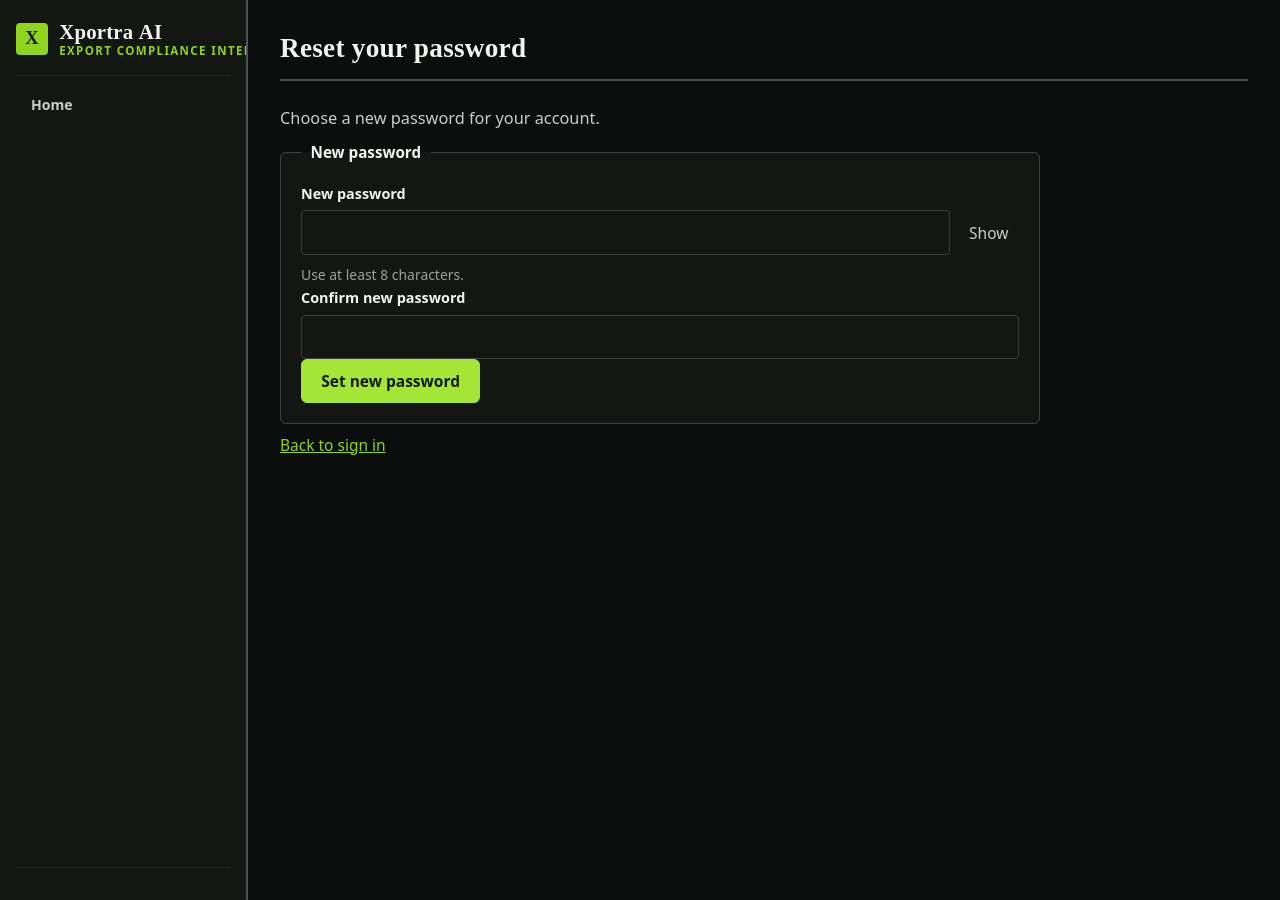
Test case: ResetPasswordPage › exchanges a recovery code and sets a new password
The image size is (1280, 900).
Type "brand-new-password" into the password field labelled "New password" at point(626, 233), box 301,210 -> 950,255
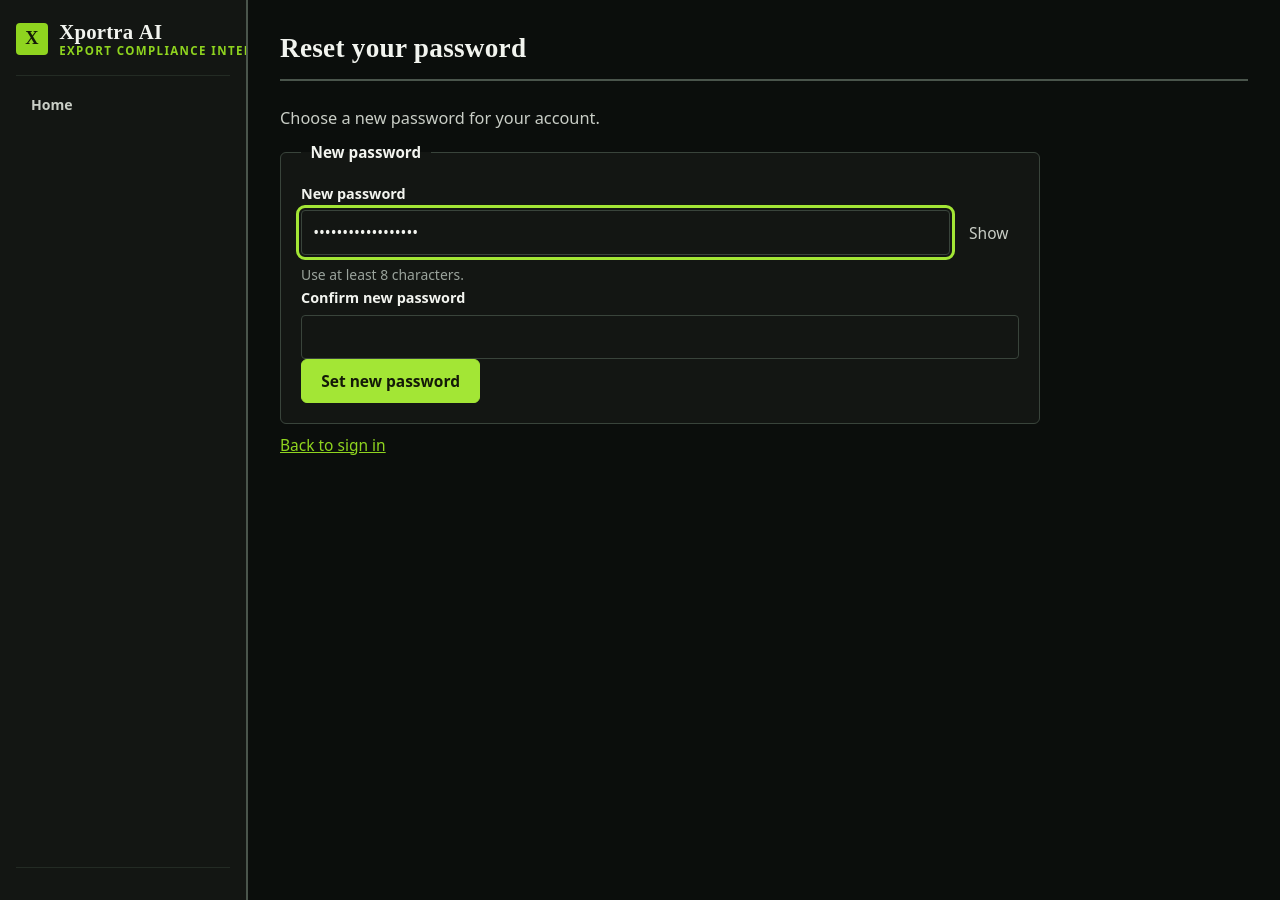
Type "brand-new-password" into the password field labelled "Confirm new password" at point(660, 337), box 301,314 -> 1019,359
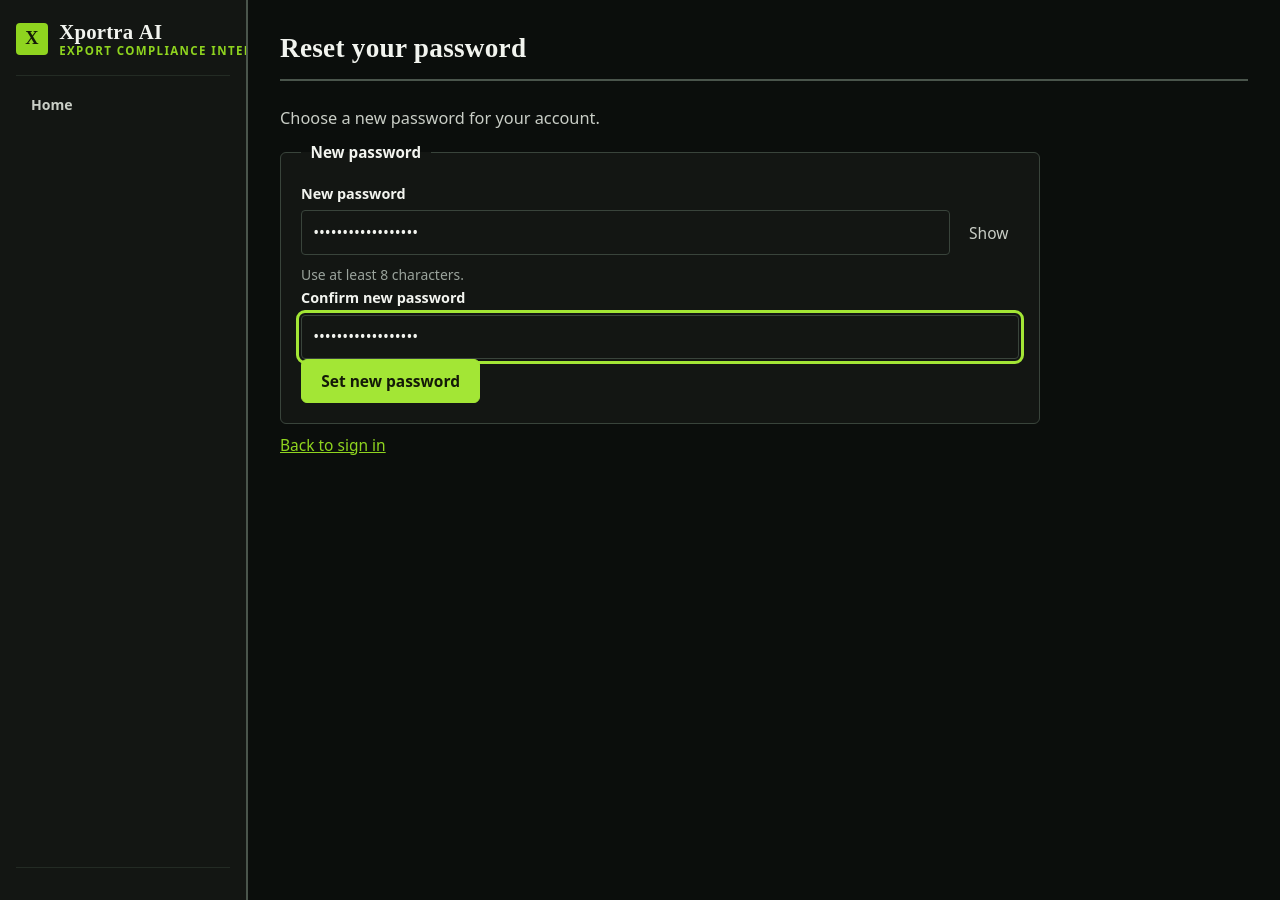
Click the button "Set new password" at point(391, 381), box 301,359 -> 480,403
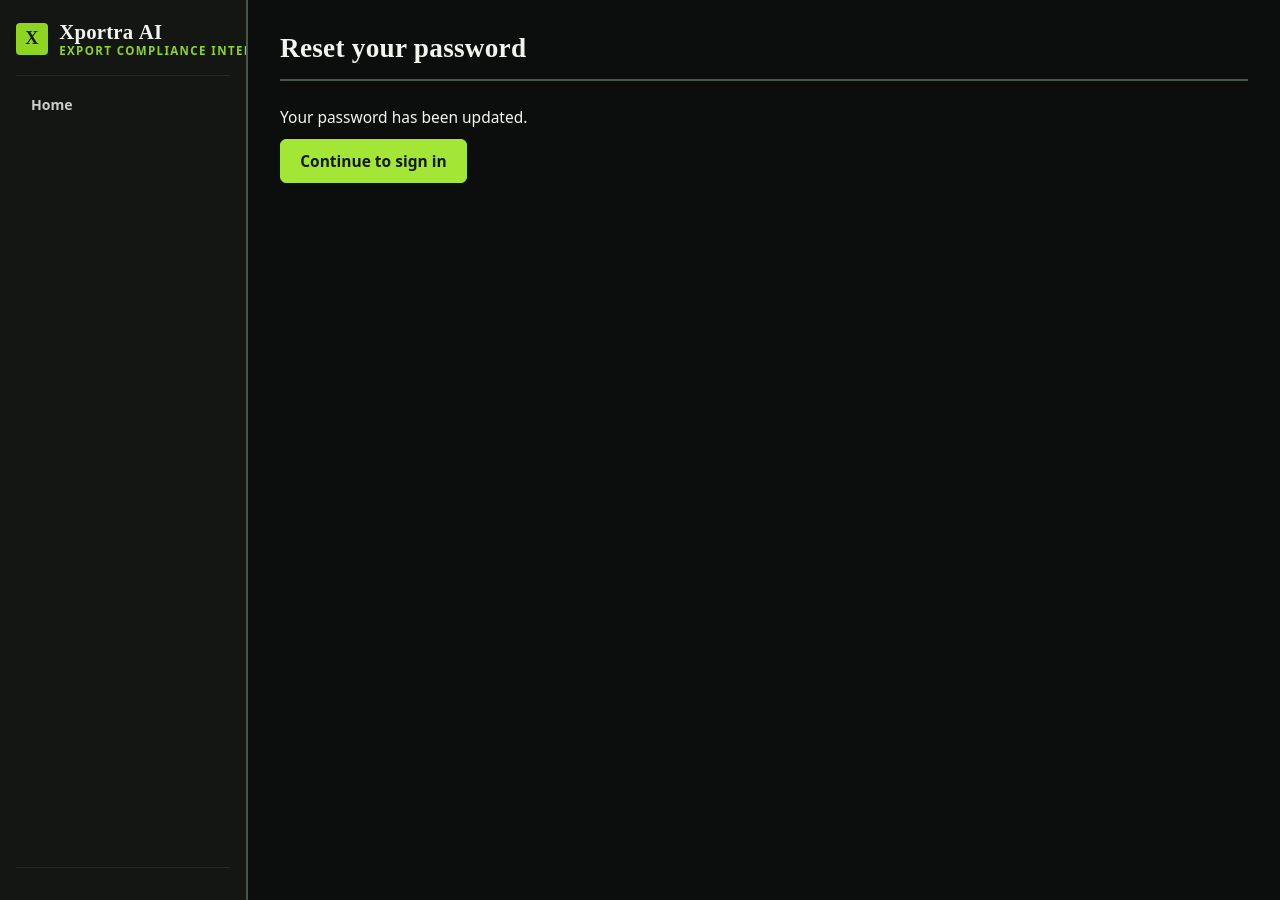
Result: the message shows "password has been updated" at 280,106 -> 527,128
